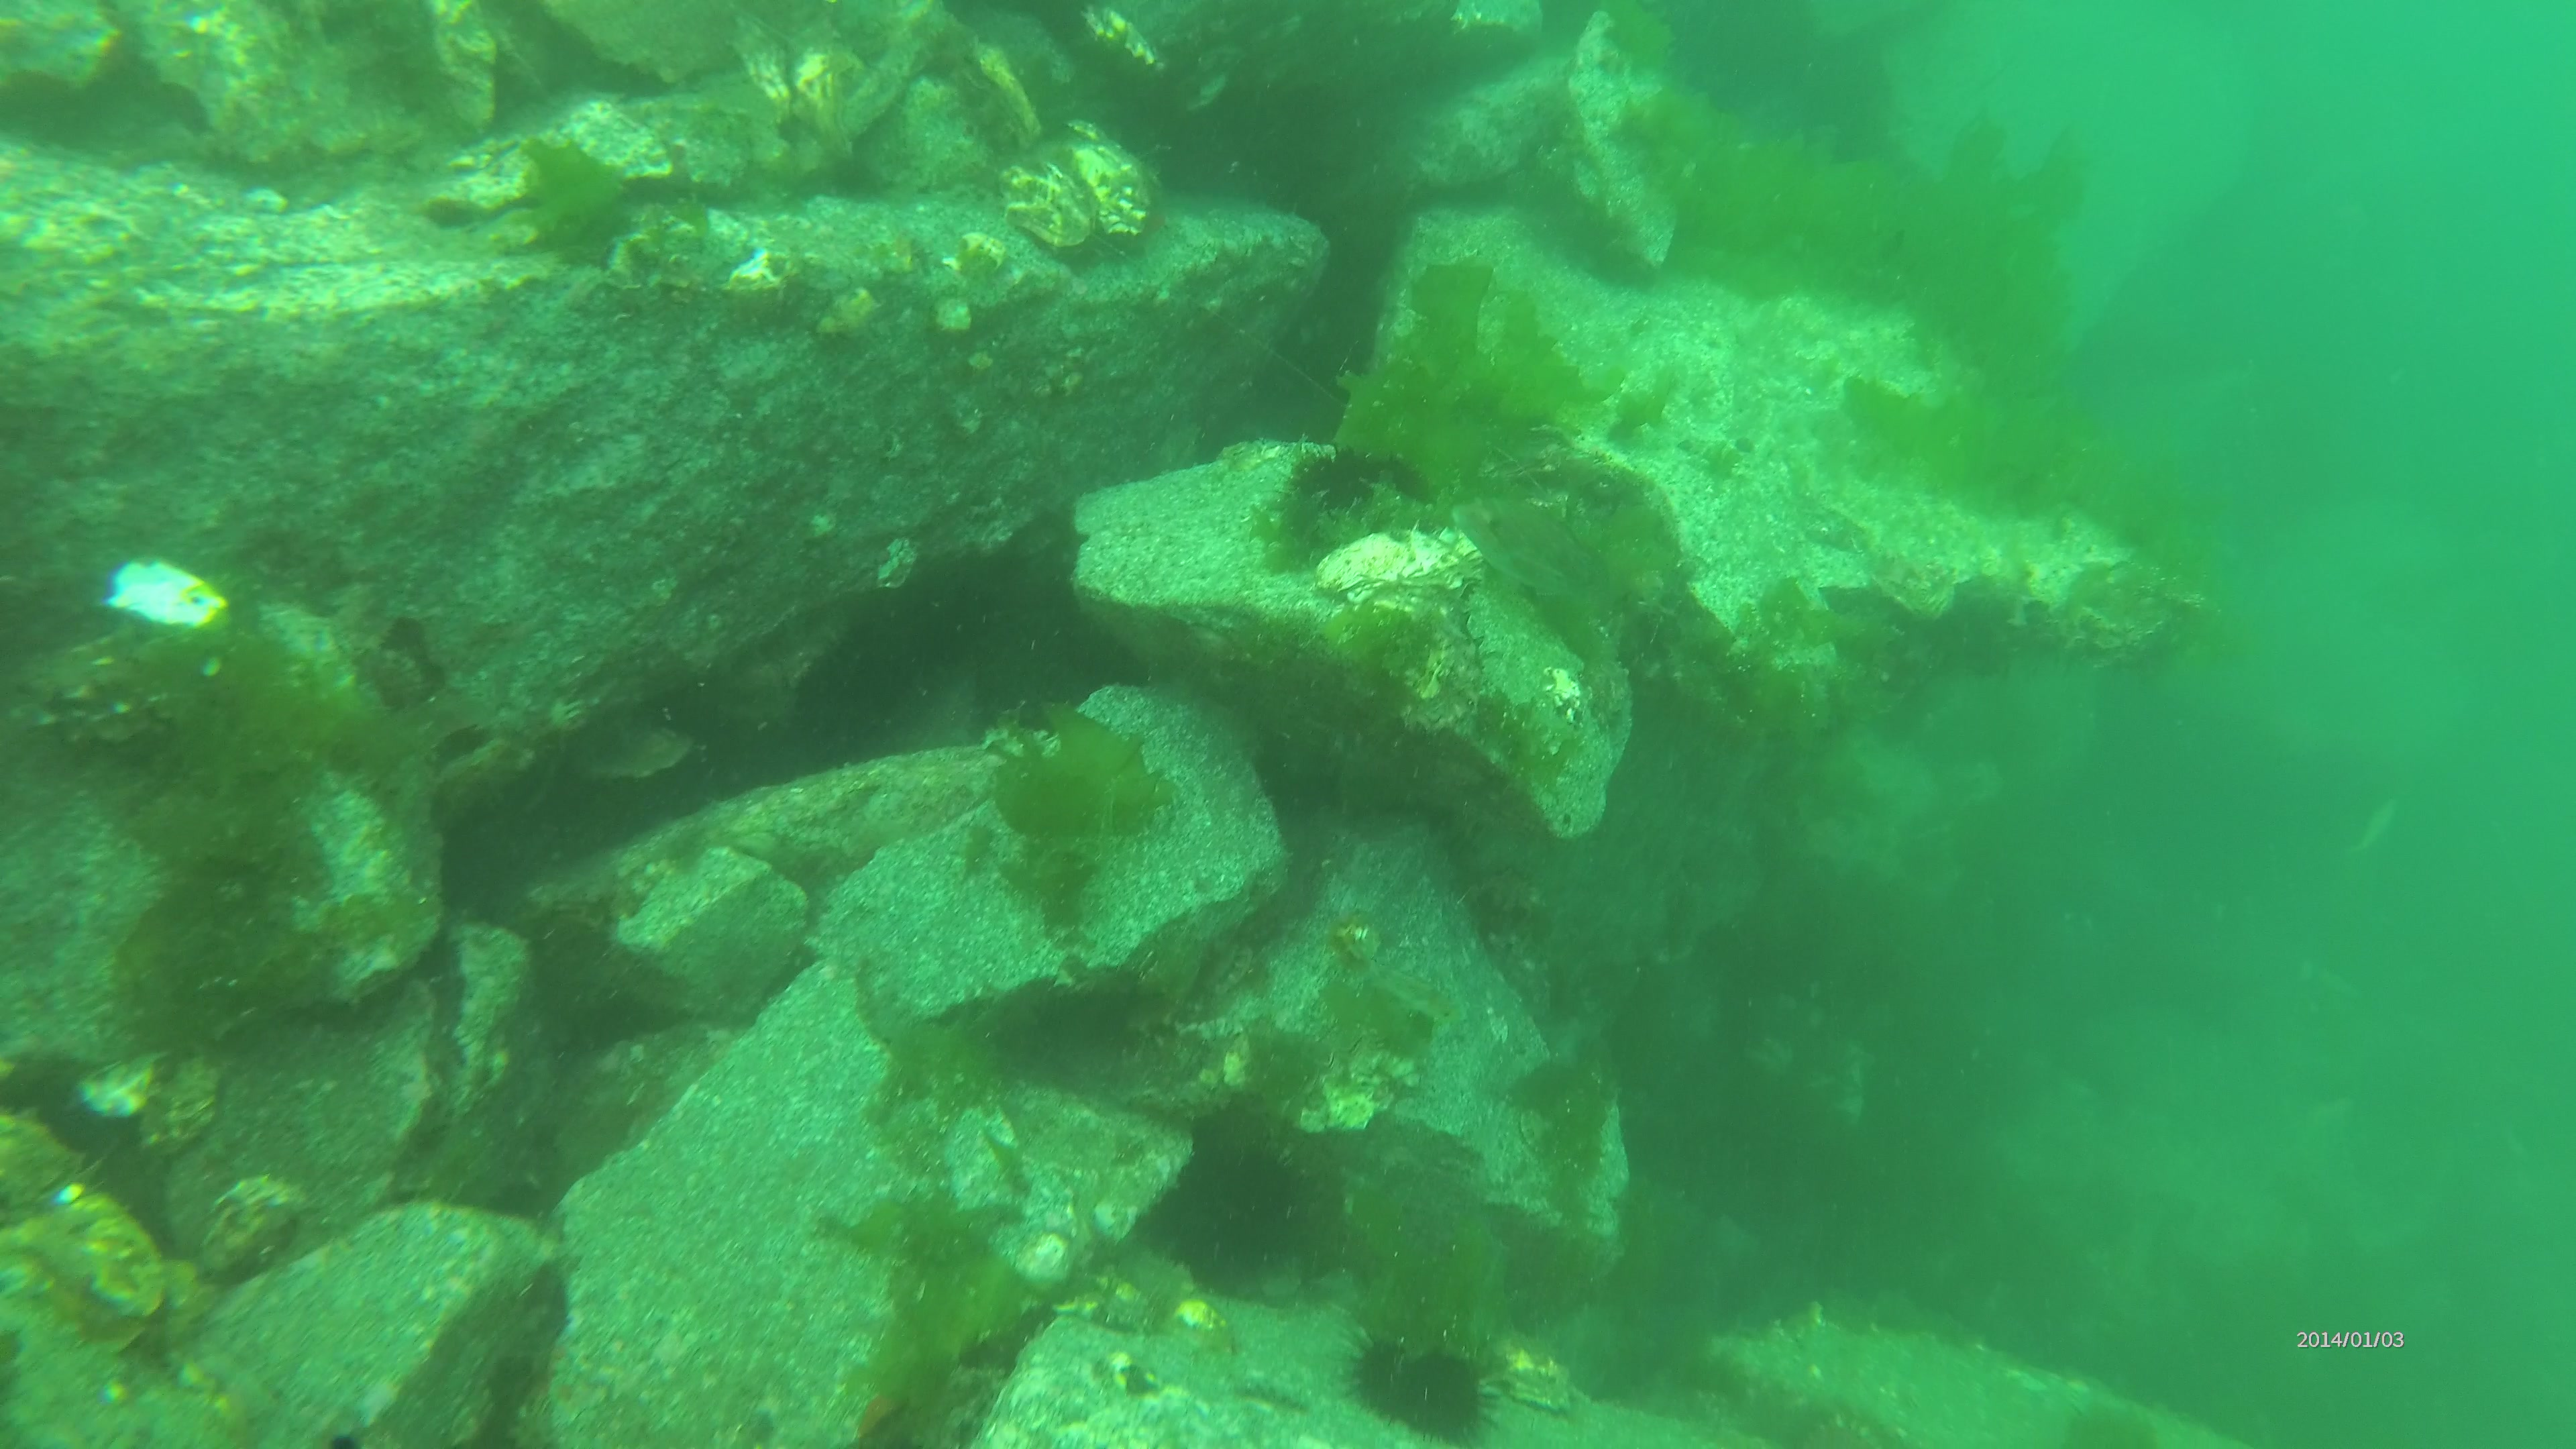echinus: (1143, 1134, 1329, 1293), (1329, 1318, 1509, 1449), (1290, 442, 1433, 541)
scallop: (1056, 117, 1164, 237), (998, 145, 1097, 251)
